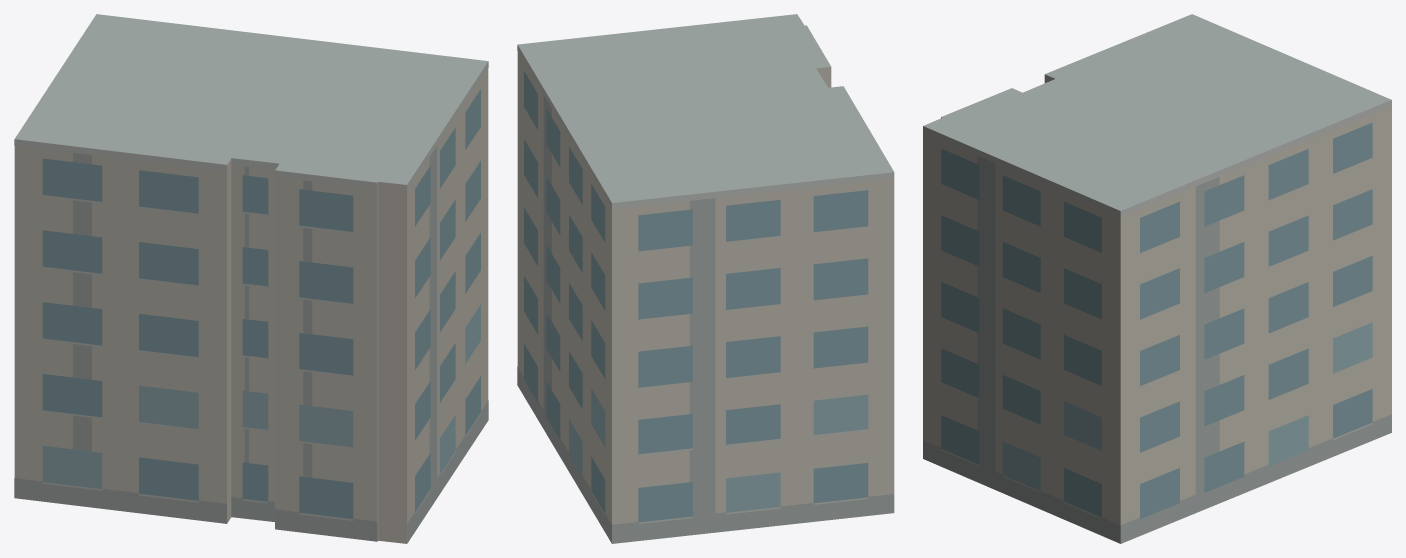
File: survey-upis-32971676.glb
3 renders of one model, left to right at view 1: azimuth 30°, elevation 25°; view 2: azimuth 150°, elevation 25°; view 3: azimuth 270°, elevation 25°, orthographic. The views are drawn at different scales.
Visible parts, largest first — view 1: survey-upis-32971676.tmp; view 2: survey-upis-32971676.tmp; view 3: survey-upis-32971676.tmp.
Part boxes in pixels (x1,y1,x2,y2): survey-upis-32971676.tmp: [14, 14, 488, 543]; survey-upis-32971676.tmp: [517, 14, 894, 543]; survey-upis-32971676.tmp: [923, 14, 1391, 543].
Bounding box in the file's own units: 16.77 × 13.2 × 16.86.
